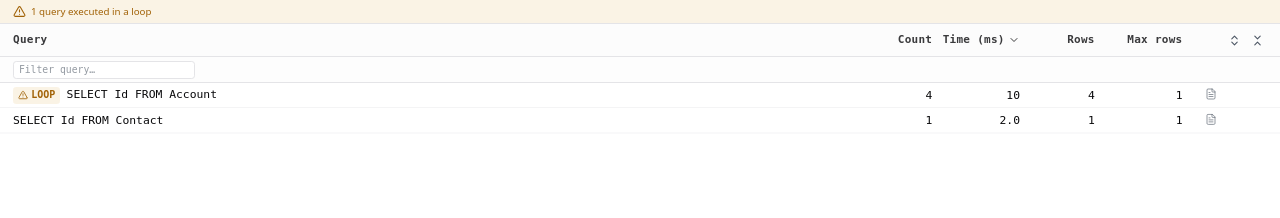
Test: SOQL Analysis — jump to a specific occurrence of a looped query › a multi-occurrence row opens a menu listing every raw line, not just the first
Click the button titled "4 occurrences — click to pick one": click(1211, 94) top-left (1203, 86), bottom-right (1218, 102)
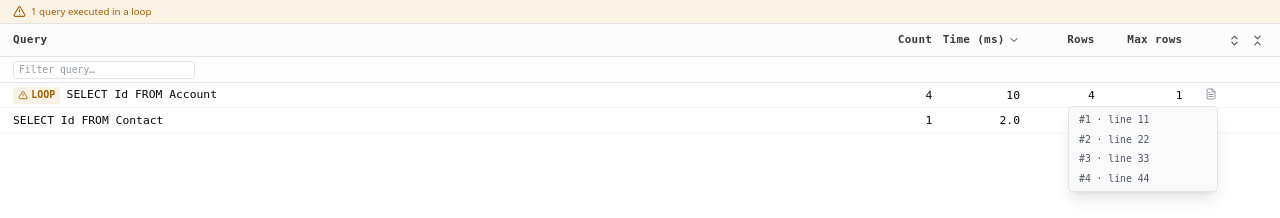
Expected: the button "#1 · line 11" is shown, top-left (1069, 110), bottom-right (1217, 129)
Expected: the button "#2 · line 22" is shown, top-left (1069, 129), bottom-right (1217, 149)
Expected: the button "#3 · line 33" is shown, top-left (1069, 149), bottom-right (1217, 168)
